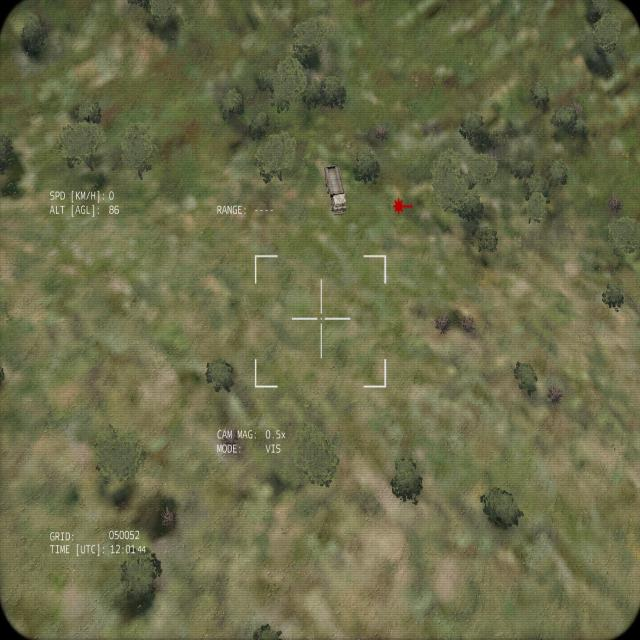truck: (324, 162, 346, 217)
